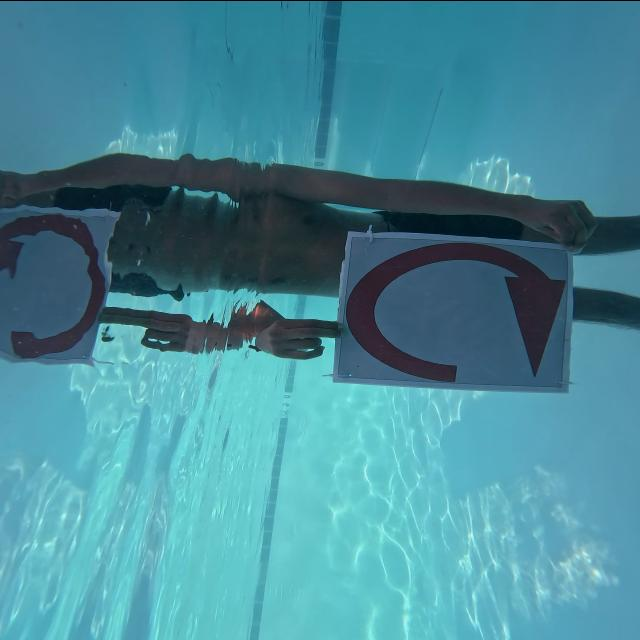red_side: (338, 246, 582, 388)
